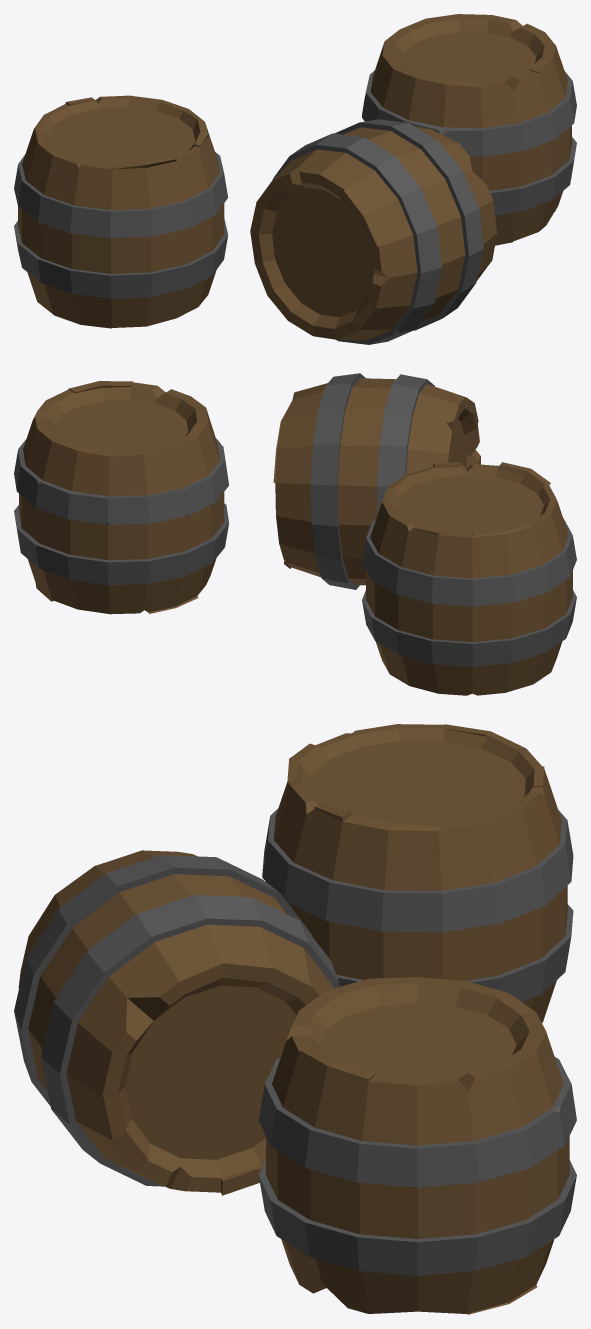
3 views of the same model, one above another, from view 1: azimuth 30°, elevation 25°; view 2: azimuth 150°, elevation 25°; view 3: azimuth 270°, elevation 25° (orthographic). The views are drawn at different scales.
Visible parts, largest first — view 1: UnifiiedBarrel, Barrel.001, Barrel, BarrelMetalSheets.001, BarrelMetalSheets; view 2: UnifiiedBarrel, Barrel, Barrel.001, BarrelMetalSheets, BarrelMetalSheets.001; view 3: UnifiiedBarrel, Barrel, Barrel.001, BarrelMetalSheets, BarrelMetalSheets.001.
Boxes of the visible parts, bbox=[...] form: UnifiiedBarrel: bbox=[14, 95, 227, 328]; Barrel.001: bbox=[250, 126, 497, 340]; Barrel: bbox=[370, 14, 571, 245]; BarrelMetalSheets.001: bbox=[272, 119, 483, 344]; BarrelMetalSheets: bbox=[361, 70, 576, 215]; UnifiiedBarrel: bbox=[362, 462, 576, 695]; Barrel: bbox=[19, 381, 224, 614]; Barrel.001: bbox=[273, 378, 480, 585]; BarrelMetalSheets: bbox=[14, 438, 228, 585]; BarrelMetalSheets.001: bbox=[311, 373, 434, 589]; UnifiiedBarrel: bbox=[262, 724, 573, 1022]; Barrel: bbox=[266, 977, 569, 1314]; Barrel.001: bbox=[18, 850, 333, 1195]; BarrelMetalSheets: bbox=[258, 1057, 576, 1275]; BarrelMetalSheets.001: bbox=[14, 855, 339, 1186].
Size of what is drawn, in the model's own units: 7.04 by 2.5 by 4.39.
